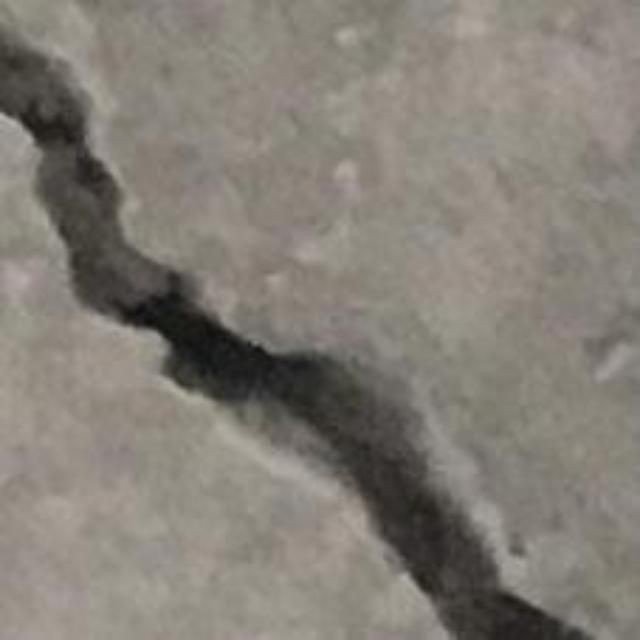crack: (0, 23, 594, 639)
